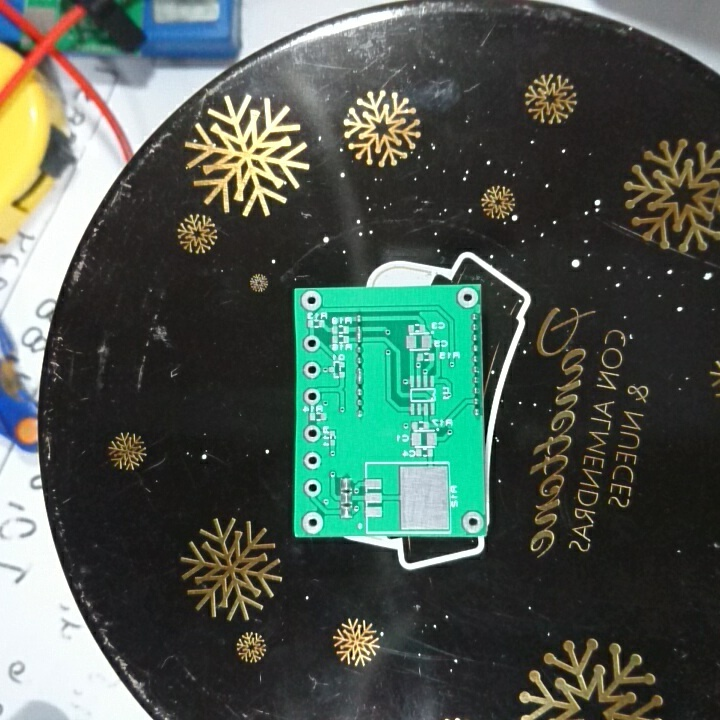F: (299, 288, 324, 312), (461, 510, 486, 534), (455, 285, 479, 309), (300, 510, 325, 533), (301, 423, 323, 445), (302, 449, 323, 471), (301, 477, 323, 498), (301, 386, 324, 406), (302, 333, 323, 354), (301, 360, 322, 380)
P: (353, 365, 369, 385), (353, 323, 367, 344)
